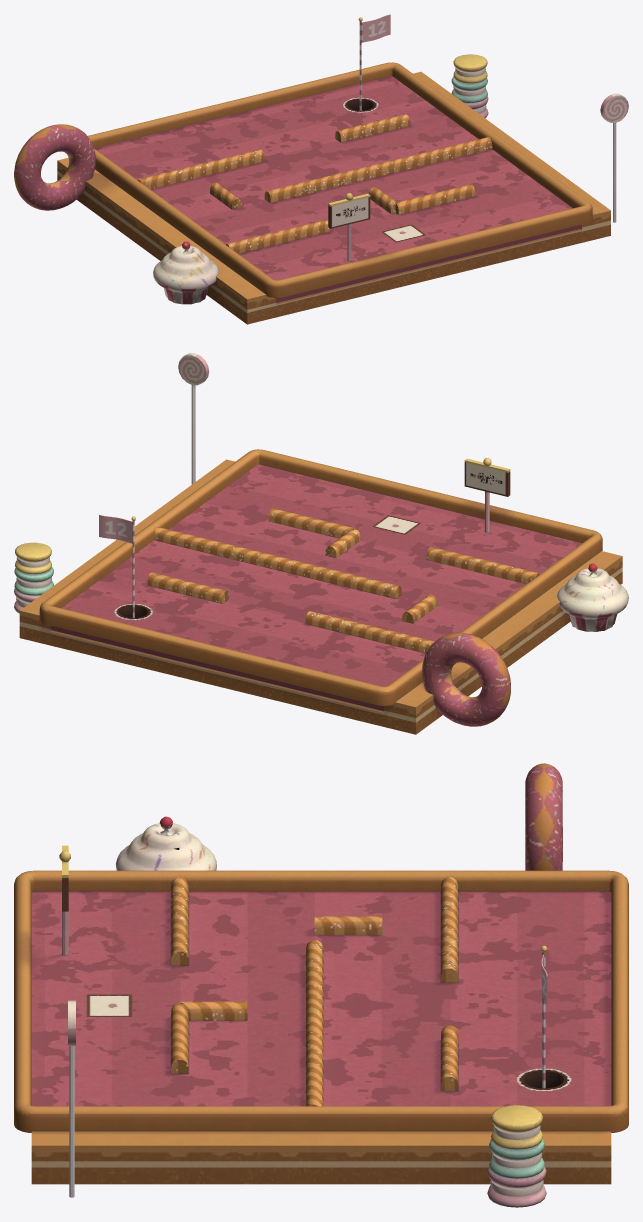
File: hole12.glb
The picture shows the model from 3 angles, top to bottom: view 1: azimuth 30°, elevation 25°; view 2: azimuth 150°, elevation 25°; view 3: azimuth 270°, elevation 25°; orthographic projection. The views are drawn at different scales.
Visible parts, largest first — view 1: Green, Rails, Base, Lattice, Decor4, Decor1, Decor3, HoleSign, Decor2, Flag; view 2: Green, Rails, Base, Lattice, Decor4, Decor1, Decor3, HoleSign, Decor2, Flag; view 3: Green, Rails, Base, Lattice, Decor3, Decor4, Decor1, Decor2, HoleSign, Flag.
Boxes of the visible parts, x1,y1,x2,y2 form: Green: [94, 76, 581, 302]; Rails: [88, 62, 592, 297]; Base: [57, 71, 610, 324]; Lattice: [137, 114, 492, 253]; Decor4: [14, 124, 95, 210]; Decor1: [153, 241, 218, 304]; Decor3: [451, 54, 488, 118]; HoleSign: [328, 193, 370, 261]; Decor2: [600, 93, 628, 222]; Flag: [358, 14, 390, 110]; Green: [51, 464, 581, 711]; Rails: [39, 449, 602, 705]; Base: [19, 459, 622, 734]; Lattice: [147, 508, 539, 653]; Decor4: [422, 632, 510, 726]; Decor1: [557, 563, 628, 631]; Decor3: [14, 542, 53, 613]; HoleSign: [464, 458, 510, 532]; Decor2: [178, 353, 209, 484]; Flag: [99, 515, 135, 617]; Green: [31, 891, 611, 1106]; Rails: [14, 870, 628, 1132]; Base: [31, 1131, 611, 1184]; Lattice: [171, 877, 458, 1106]; Decor3: [487, 1105, 546, 1207]; Decor4: [525, 763, 562, 870]; Decor1: [115, 816, 216, 870]; Decor2: [68, 1000, 75, 1197]; HoleSign: [59, 845, 70, 955]; Flag: [540, 946, 547, 1088].
Size of what is drawn, in the model's own units: 6.04 by 1.6 by 4.56.
1 material, 1 textured.
